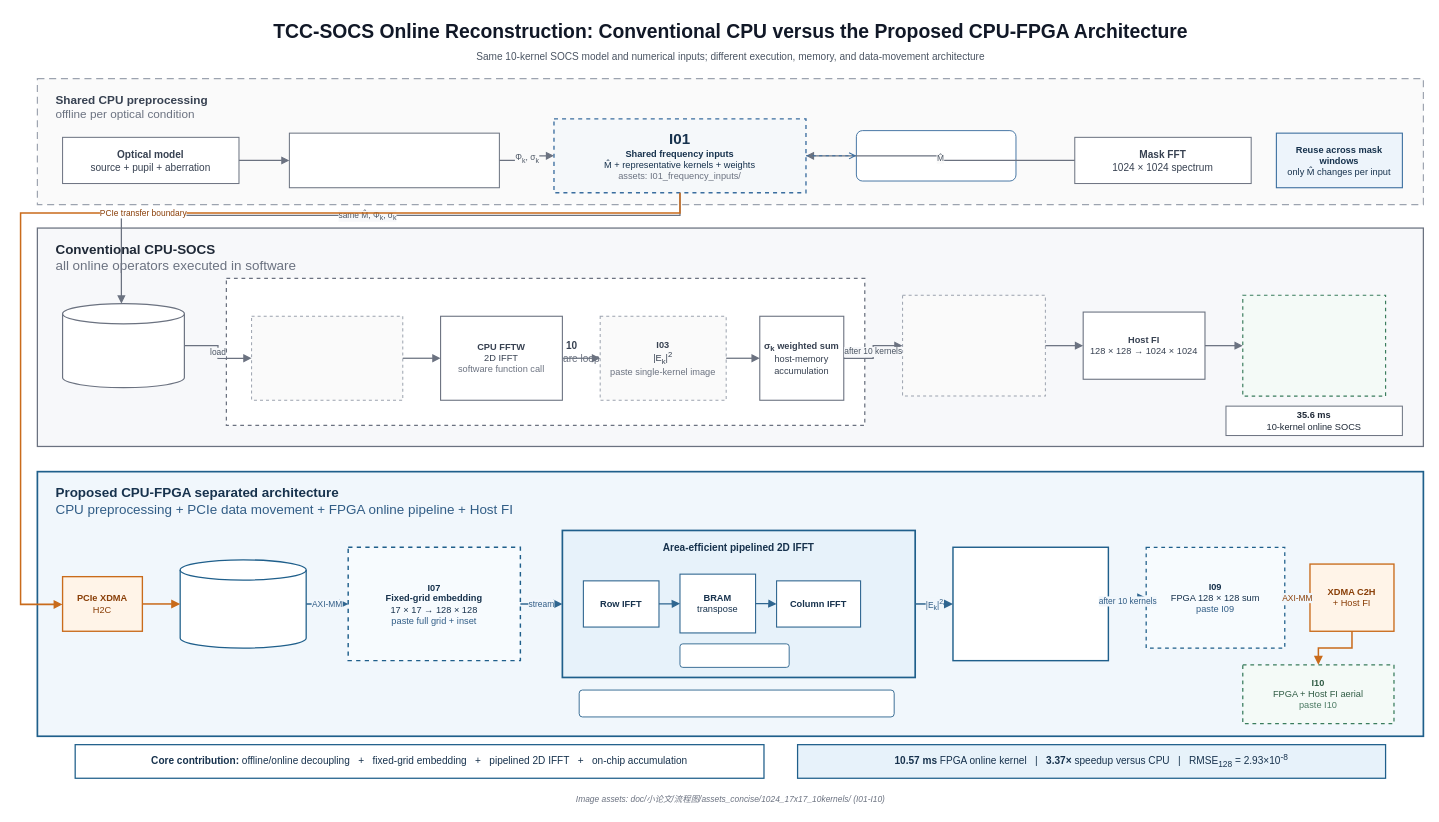
This 1439x822 diagram has some shape labels left out. The shapes that lost their labels are listed below. From the top down, each one's centre as x and y in pixels, then its label:
point 393,160: TCC eigendecomposition reusable Φ k (17 × 17), σ k
point 936,155: Identical input data used by both online paths
point 123,345: Host DRAM M̂, Φ k , σ k general-purpose memory traffic
point 327,357: I02 M̂ × Φ k paste I02 triplet
point 973,345: I04 CPU 128 × 128 sum paste I04
point 1314,345: I05 CPU aerial image paste I05
point 242,603: FPGA DDR I06: same M̂, Φ k , σ k
point 1030,603: On-chip BRAM accumulation |E k | 2 × σ k kernel time multiplexing
point 734,655: BFP compensation
point 736,703: I08 = same |E k | 2 as I03
